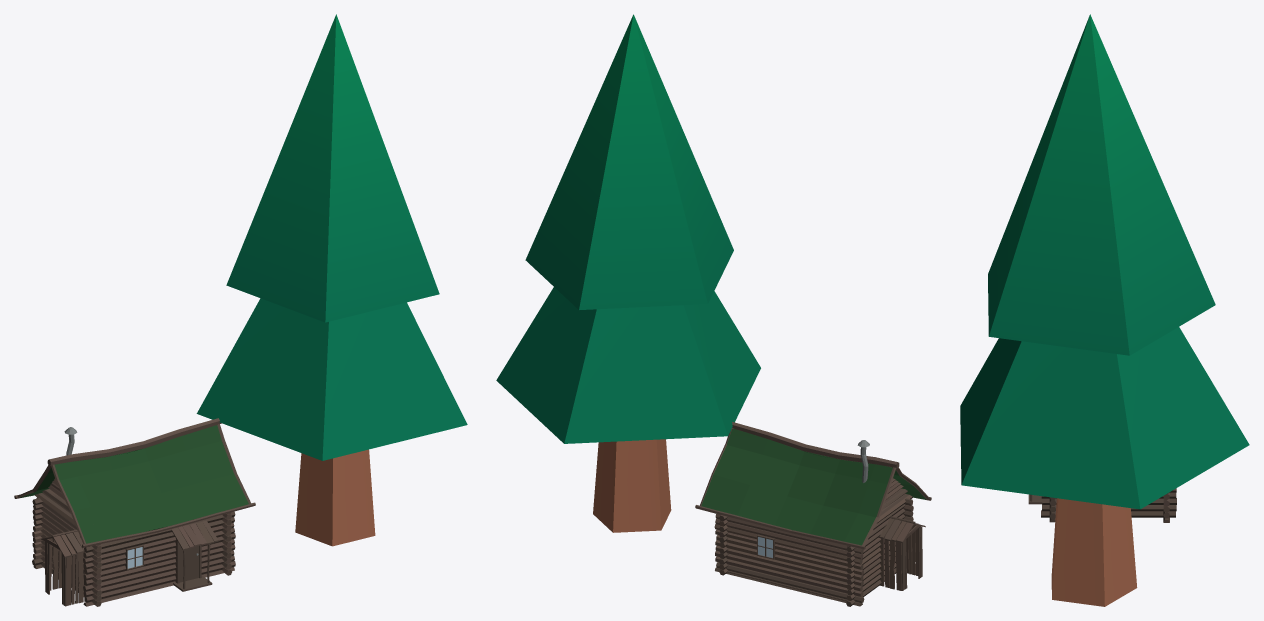
Rendered from forester.glb.
The picture shows the model from 3 angles, left to right: view 1: azimuth 30°, elevation 25°; view 2: azimuth 150°, elevation 25°; view 3: azimuth 270°, elevation 25°; orthographic projection. The views are drawn at different scales.
Parts seen in each view (by area): view 1: tree_single_A, Cabin_shed; view 2: tree_single_A, Cabin_shed; view 3: tree_single_A, Cabin_shed.
Boxes of the visible parts, <box> form: tree_single_A: <box>196,14,467,546</box>; Cabin_shed: <box>14,418,255,606</box>; tree_single_A: <box>496,14,760,532</box>; Cabin_shed: <box>695,422,931,606</box>; tree_single_A: <box>960,14,1249,606</box>; Cabin_shed: <box>1028,488,1176,522</box>.
Bounding box in the file's own units: 0.9821 × 1.2 × 0.547.
2 materials, 2 textured.
